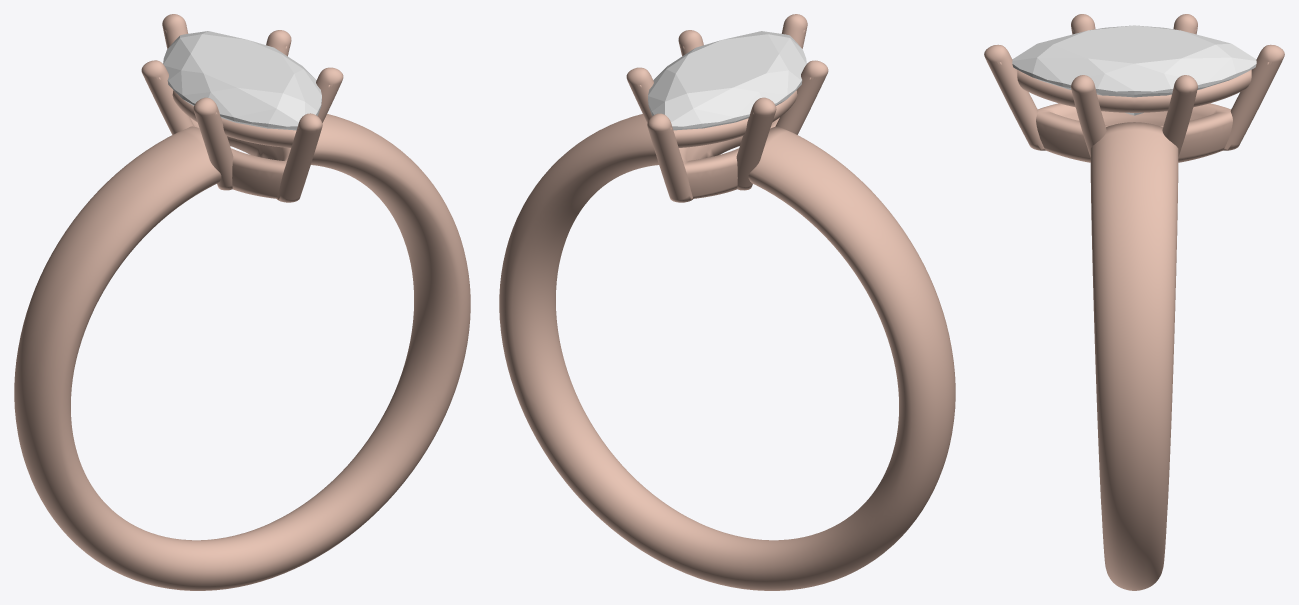
The model's file is diamond-marquise-rosegold-6prong-taperedband-nosidestones.glb.
3 renders of one model, left to right at view 1: azimuth 30°, elevation 25°; view 2: azimuth 150°, elevation 25°; view 3: azimuth 270°, elevation 25°, orthographic.
Parts seen in each view (by area): view 1: metal.004, stone; view 2: metal.004, stone; view 3: metal.004, stone.
Part boxes in pixels (bbox=[...]): metal.004: bbox=[14, 14, 470, 590]; stone: bbox=[163, 31, 321, 130]; metal.004: bbox=[499, 14, 955, 590]; stone: bbox=[648, 31, 806, 130]; metal.004: bbox=[984, 14, 1284, 590]; stone: bbox=[1012, 25, 1256, 115].
Bounding box in the file's own units: 20.48 × 22.93 × 11.96.
